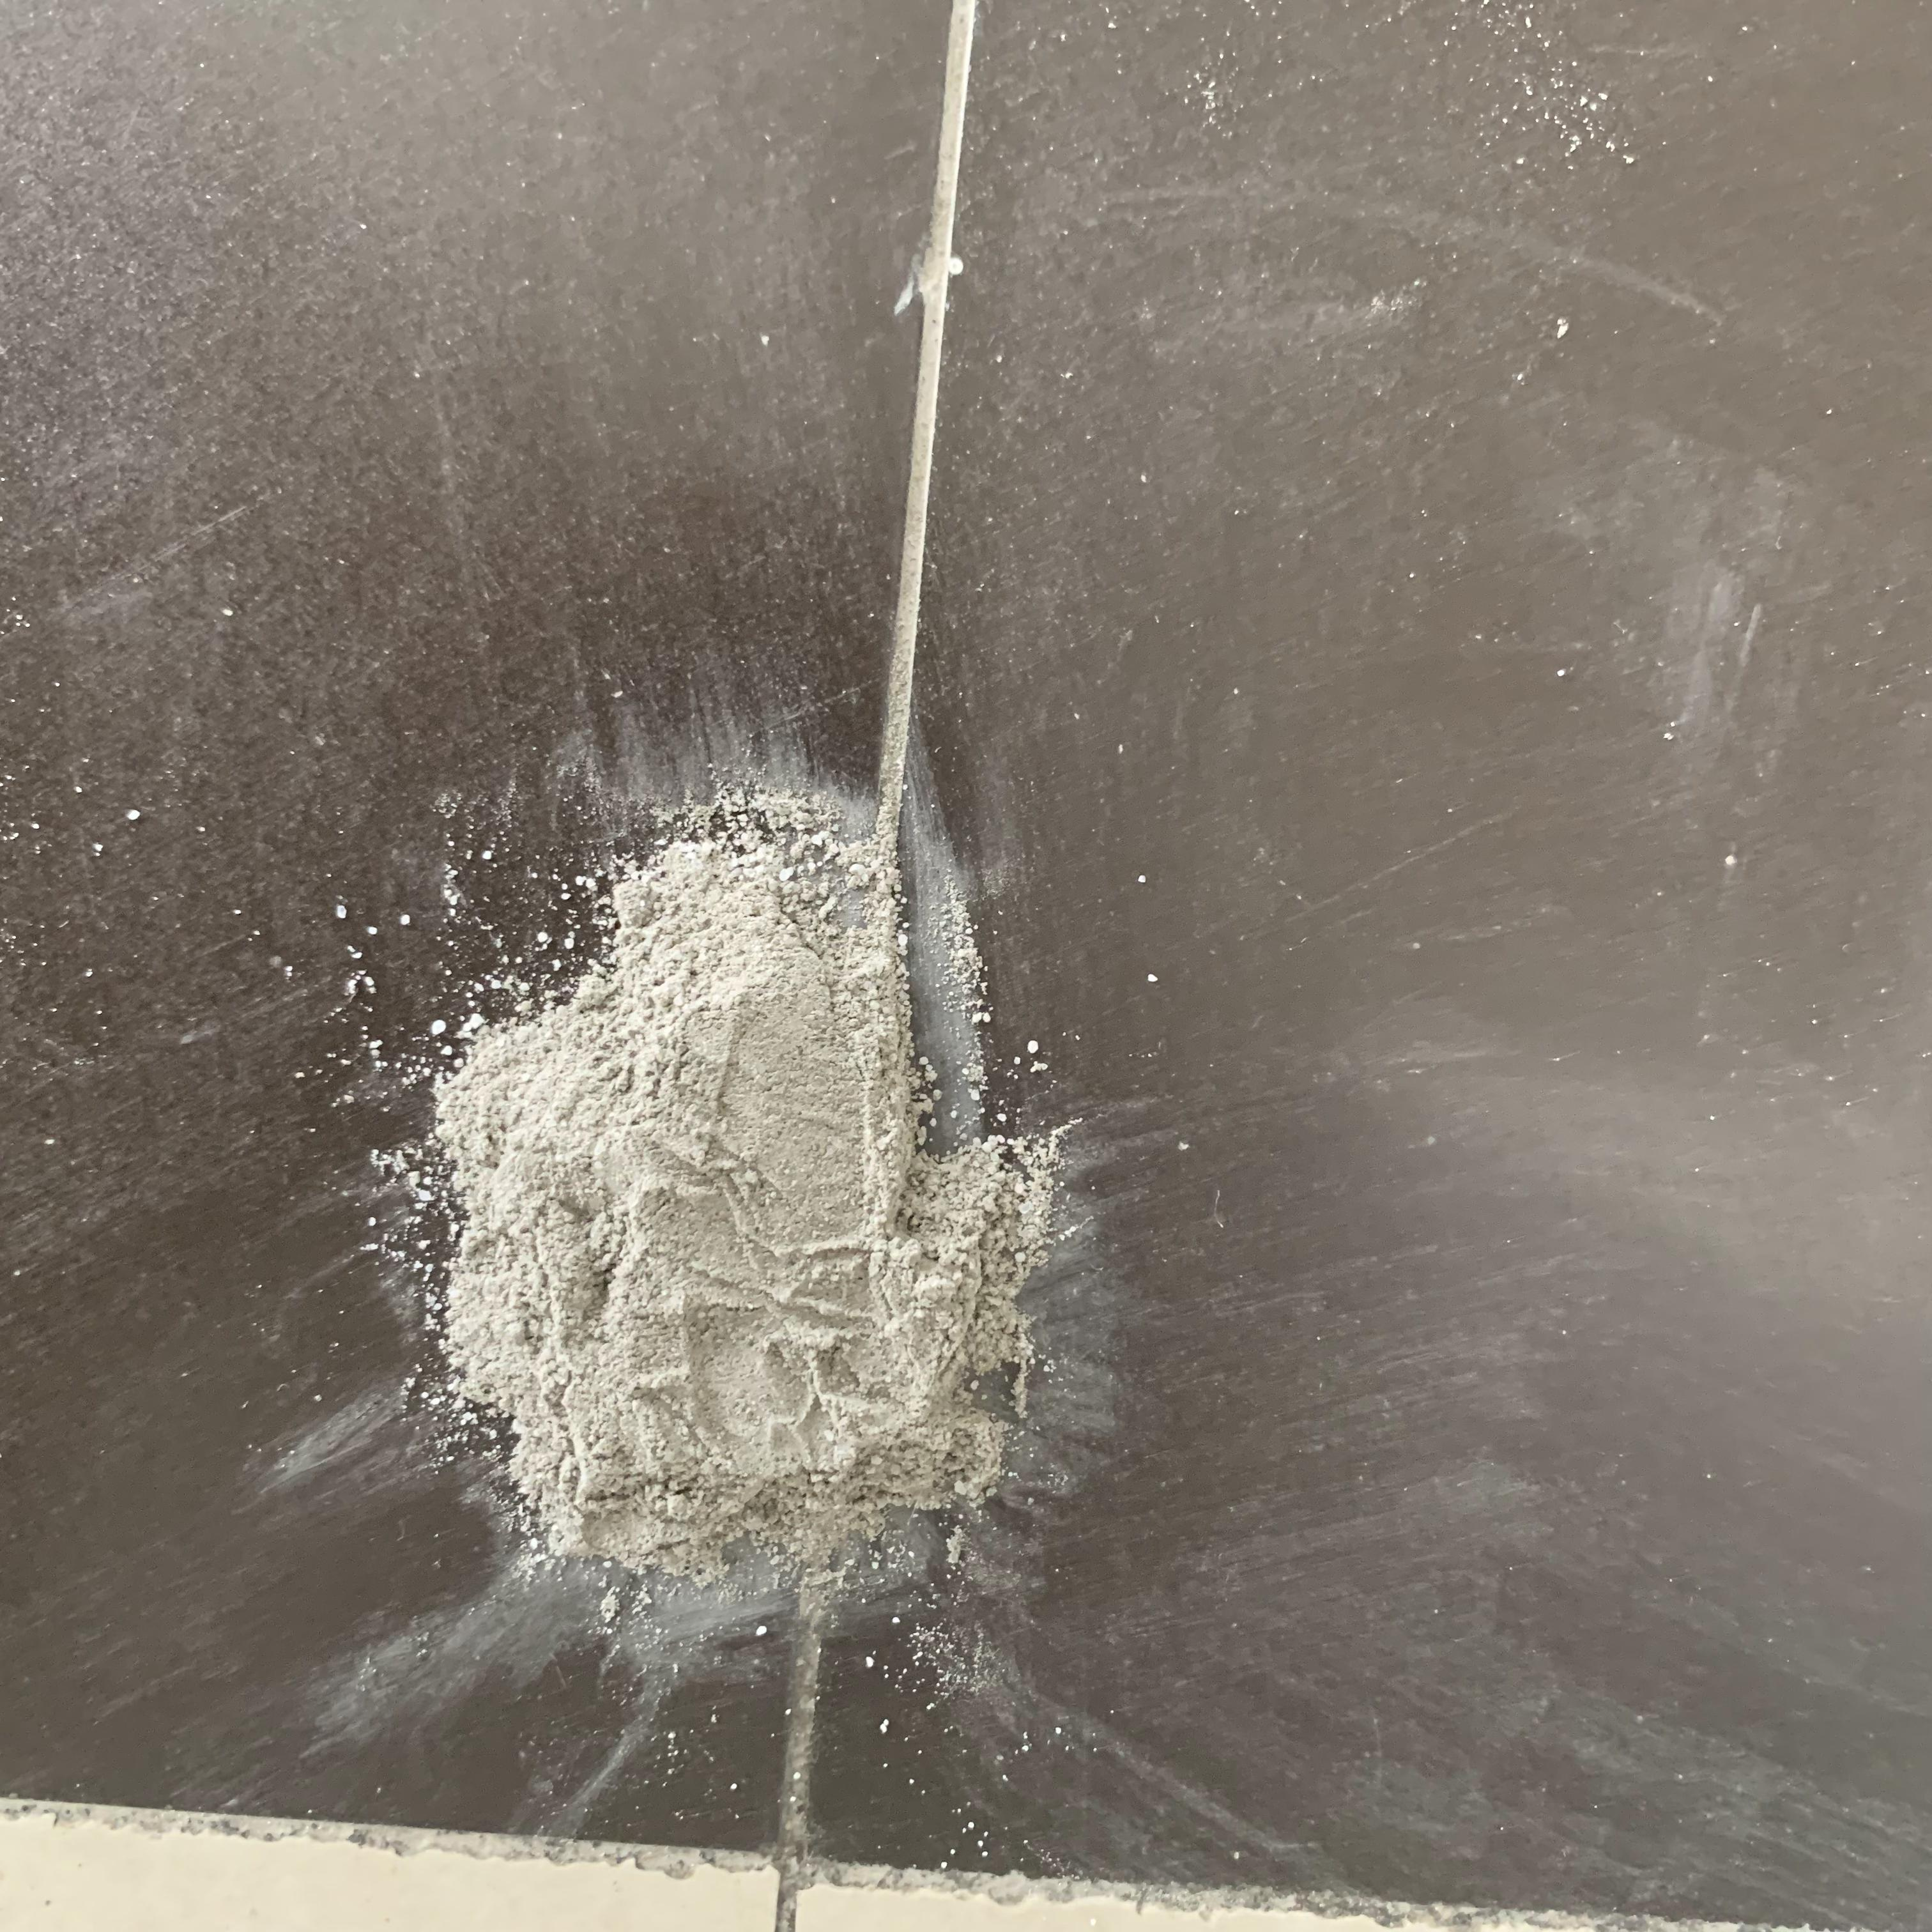ash pile: (255, 699, 1302, 1867)
